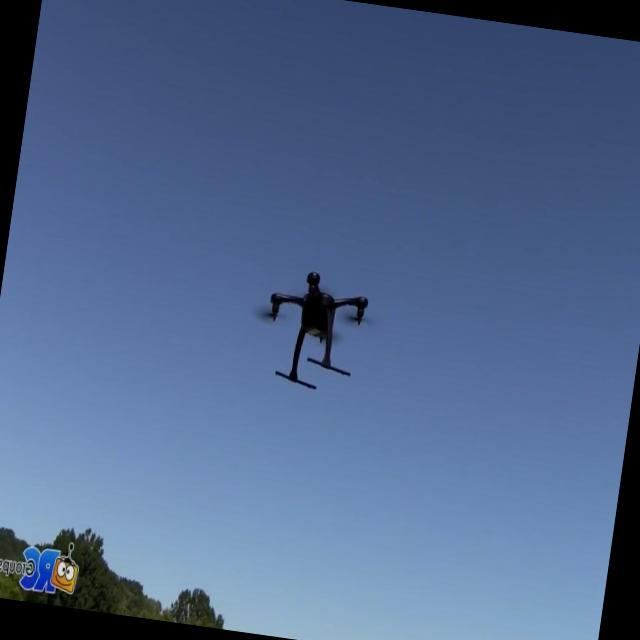drone: (257, 265, 373, 397)
